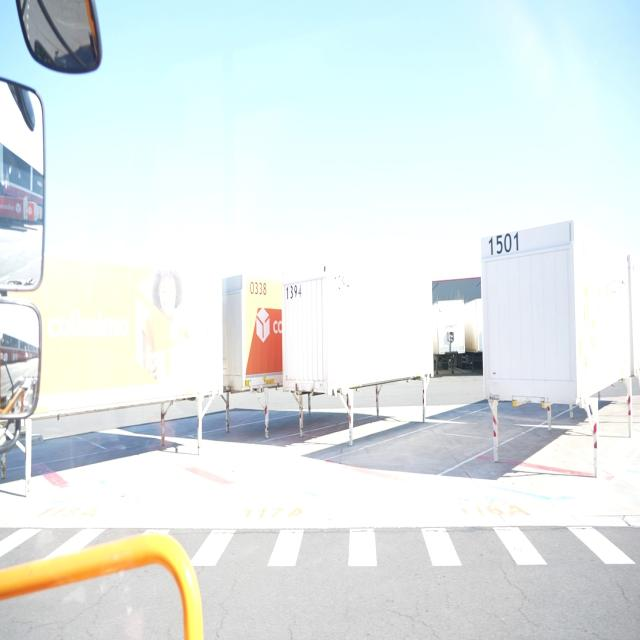Code: (489, 232, 519, 257), (248, 278, 272, 298), (285, 283, 303, 303)
